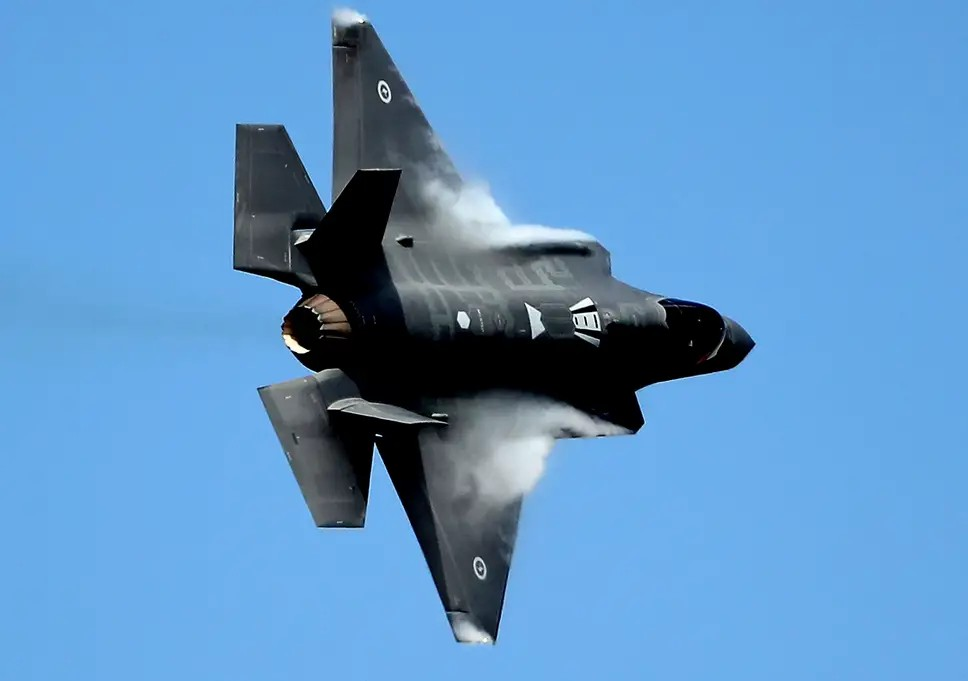F-35 Lightning: (130, 3, 786, 671)
